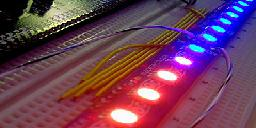LED: (133, 85, 161, 105), (155, 67, 179, 84), (187, 43, 205, 56)
